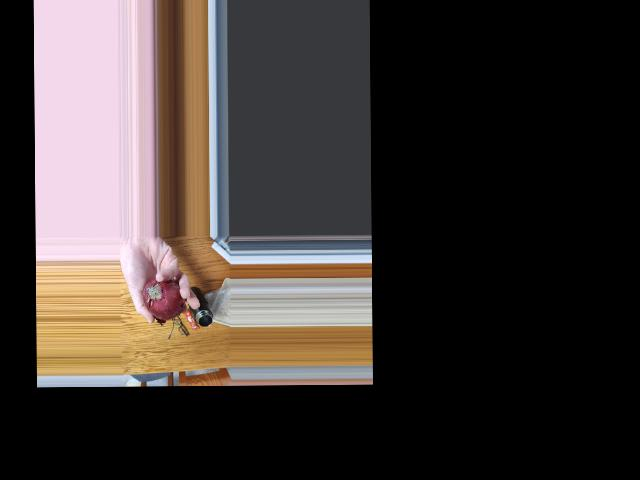onion: (140, 272, 180, 316)
